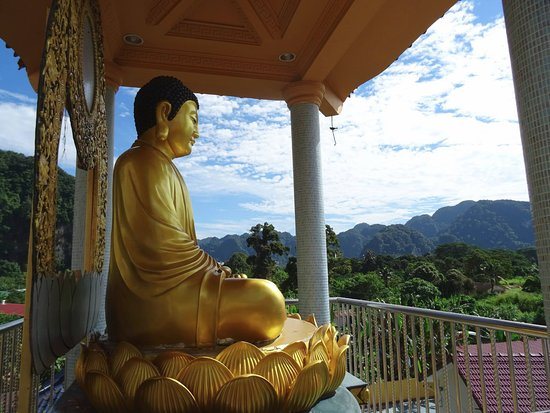Buddhist Temple: (90, 59, 284, 335)
